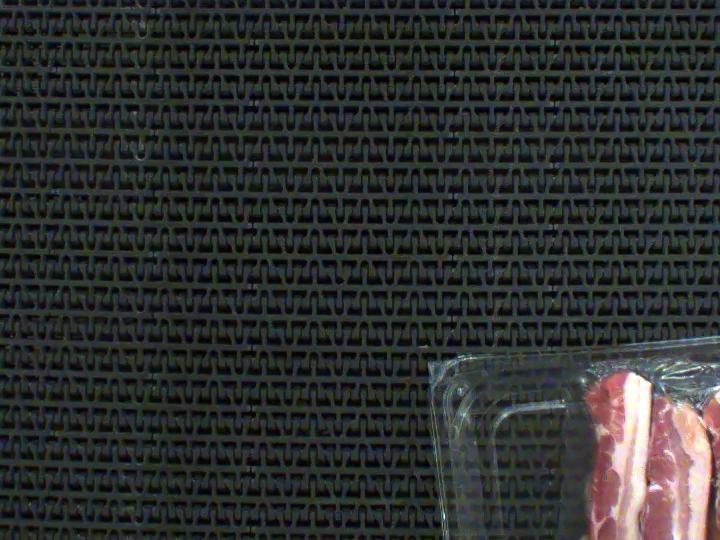unsealed: (468, 338, 720, 540)
